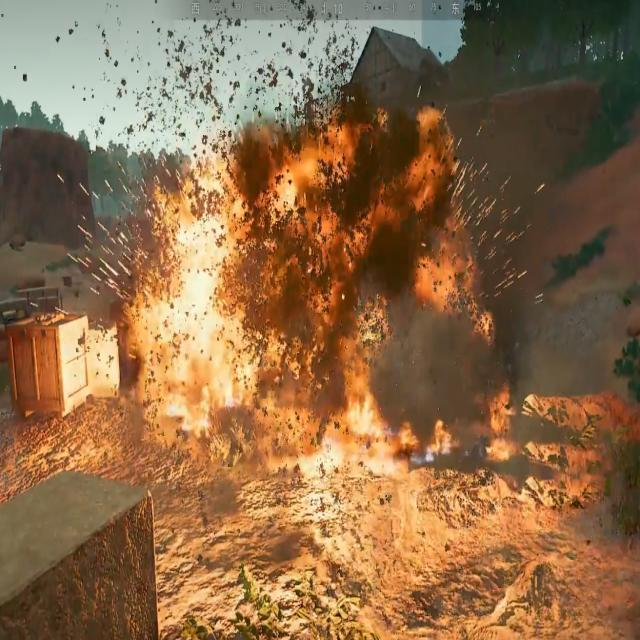fire: (68, 38, 550, 528)
